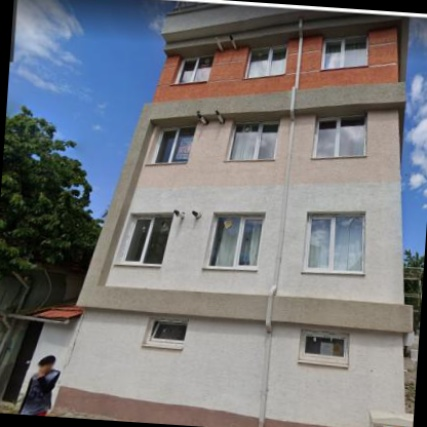door: (2, 319, 45, 405)
